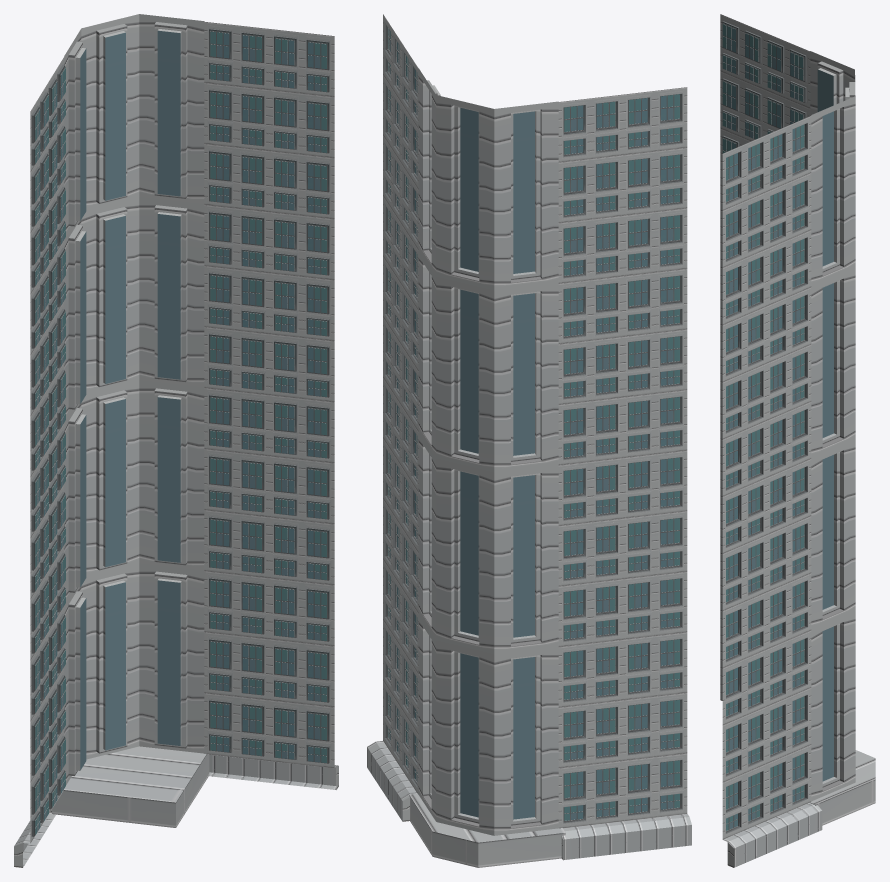
The model's file is TowerTest04 not merged.fbx.
3 views of the same model, side by side, from view 1: azimuth 30°, elevation 25°; view 2: azimuth 150°, elevation 25°; view 3: azimuth 270°, elevation 25° (orthographic). The views are drawn at different scales.
Visible parts, largest first — view 1: MegaBuilding01.001; view 2: MegaBuilding01.001; view 3: MegaBuilding01.001.
Boxes of the visible parts, left/top/right/bottom form: MegaBuilding01.001: left=14, top=14, right=338, bottom=867; MegaBuilding01.001: left=367, top=14, right=691, bottom=867; MegaBuilding01.001: left=720, top=14, right=875, bottom=867.
Size of the model in its own units: 2460 by 5463 by 1084.
